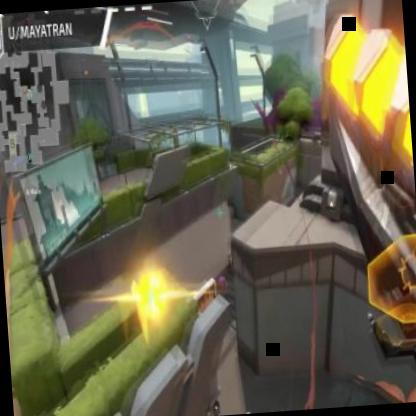enemy: (226, 247, 235, 276)
enemy_head: (228, 249, 232, 255)
